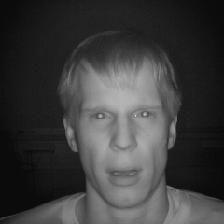normal: (59, 40, 184, 208)
